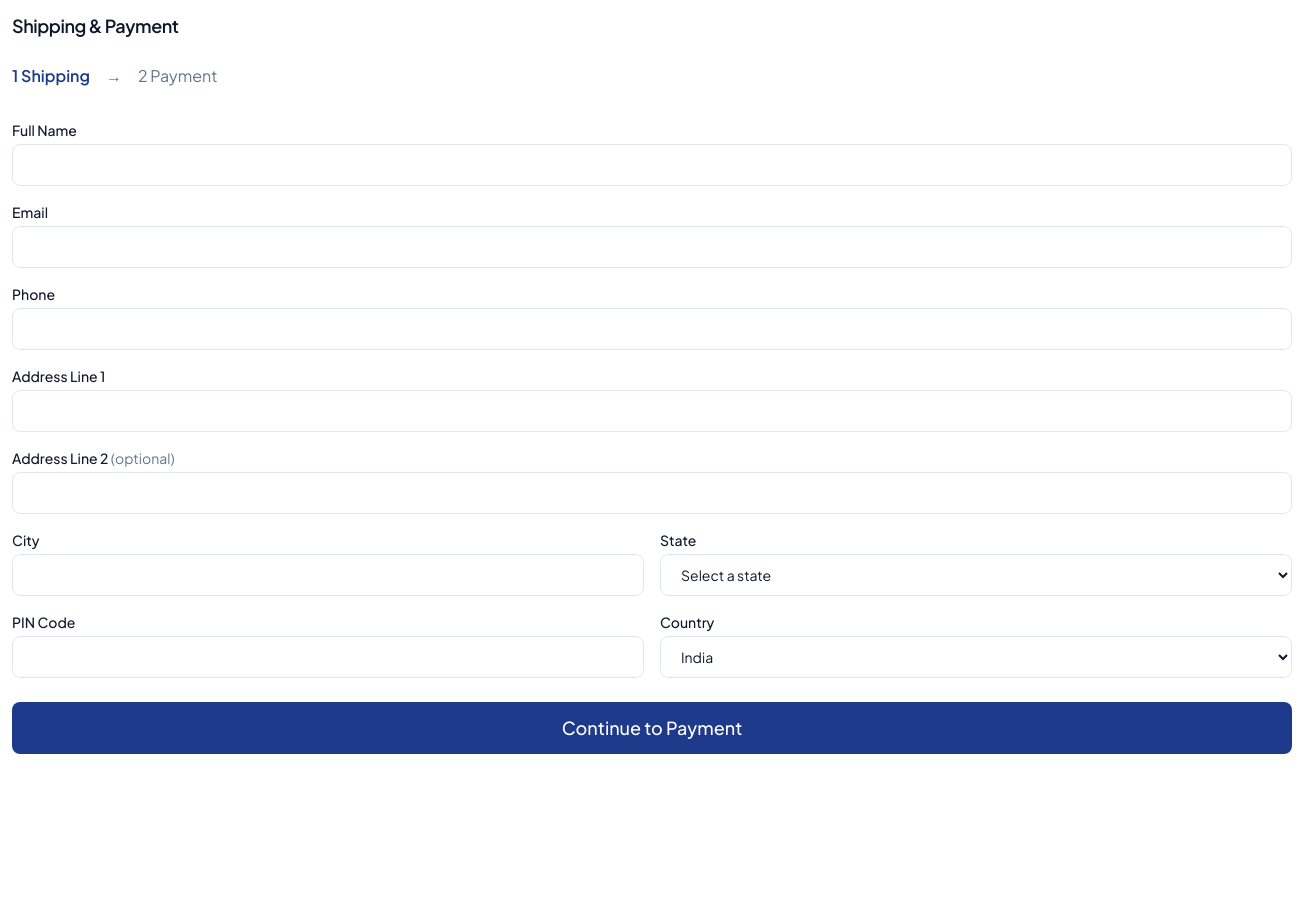
Test: CheckoutForm — Rx confirmation step › shows the confirm-rx step instead of going straight to payment when the order needs one
This screenshot has width=1304, height=912.
Step 1. Type "Test User" into the field labelled "Full Name" → x=652, y=165, box [12,144,1292,186]
Step 2. Type "test@test.com" into the field labelled "Email" → x=652, y=247, box [12,226,1292,268]
Step 3. Type "9876543210" into the field labelled "Phone" → x=652, y=329, box [12,308,1292,350]
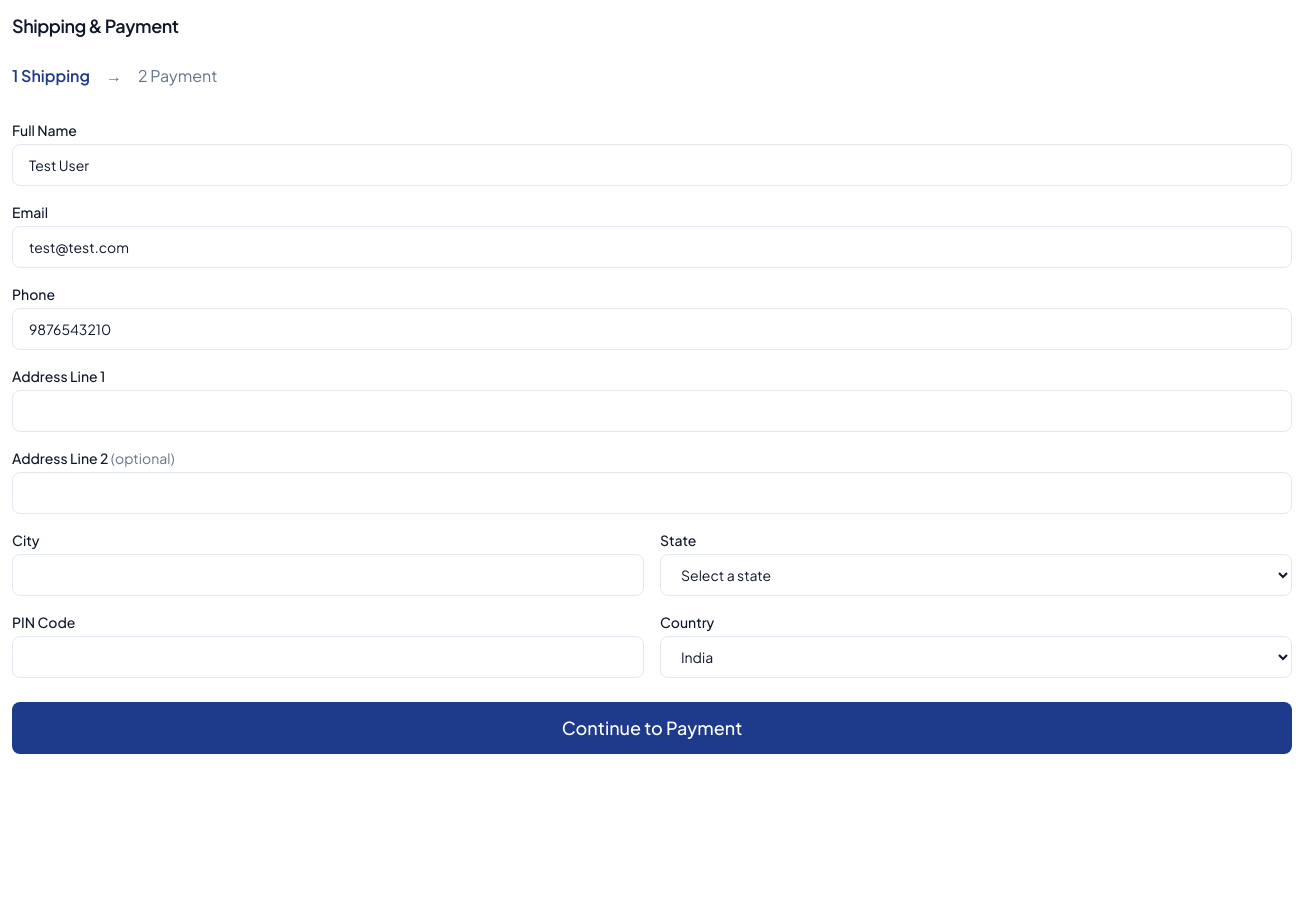
Step 4. Type "22-1-53, Balaji Nagar" into the field labelled "Address Line 1" → x=652, y=411, box [12,390,1292,432]
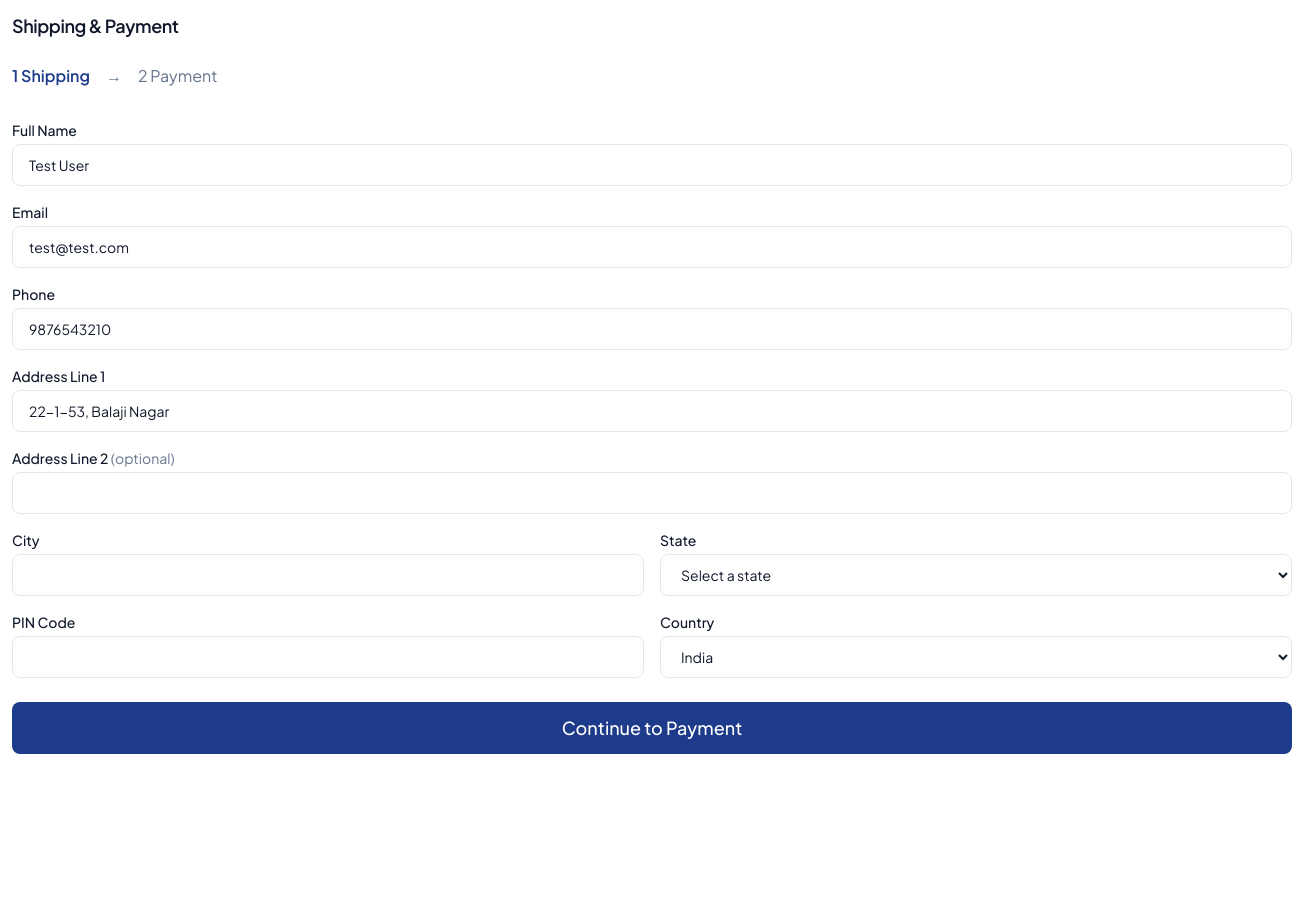
Step 5. Type "Vijayawada" into the field labelled "City" → x=328, y=575, box [12,554,644,596]
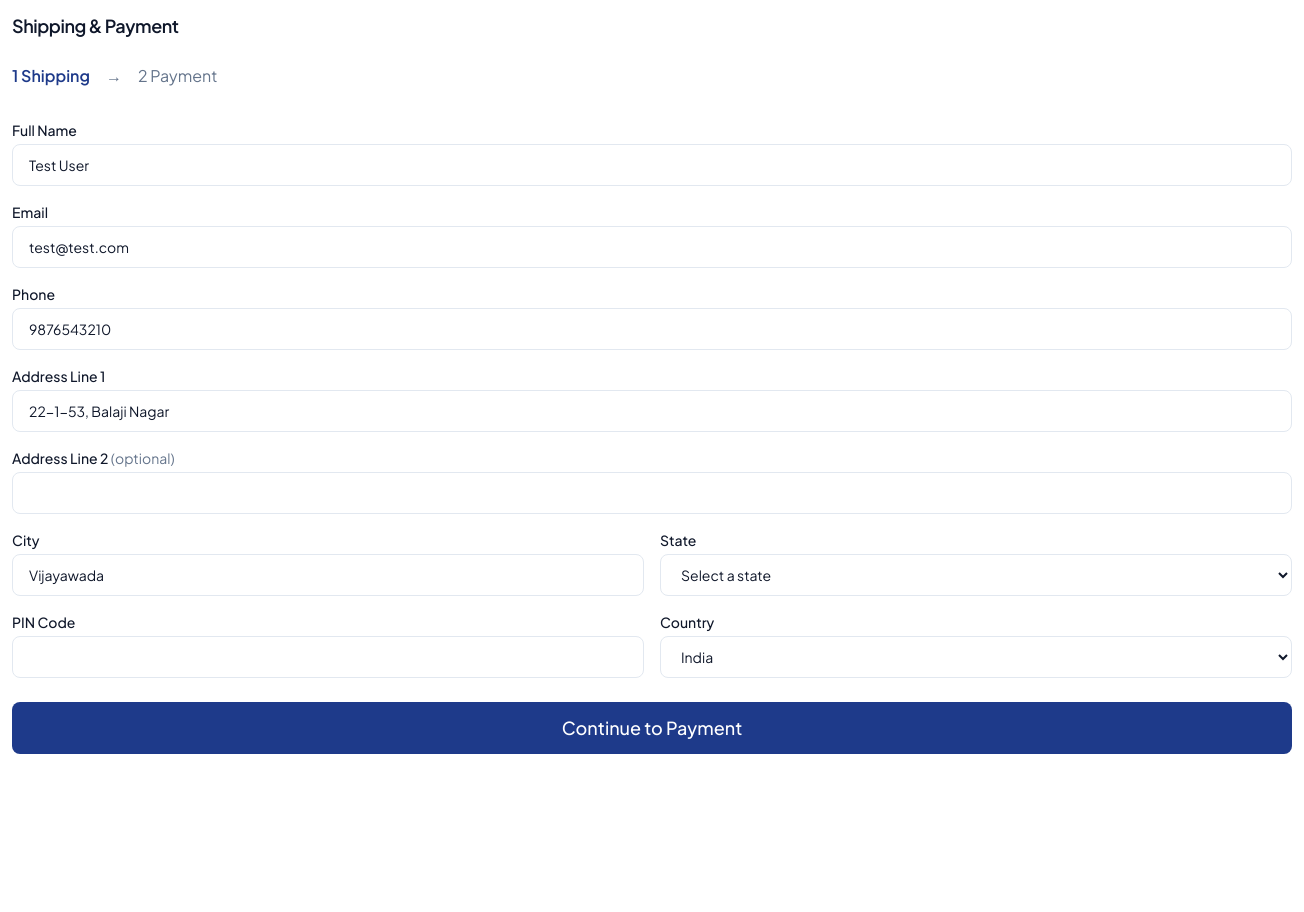
Step 6. Select "Andhra Pradesh" in the dropdown labelled "State" → x=976, y=575, box [660,554,1292,596]
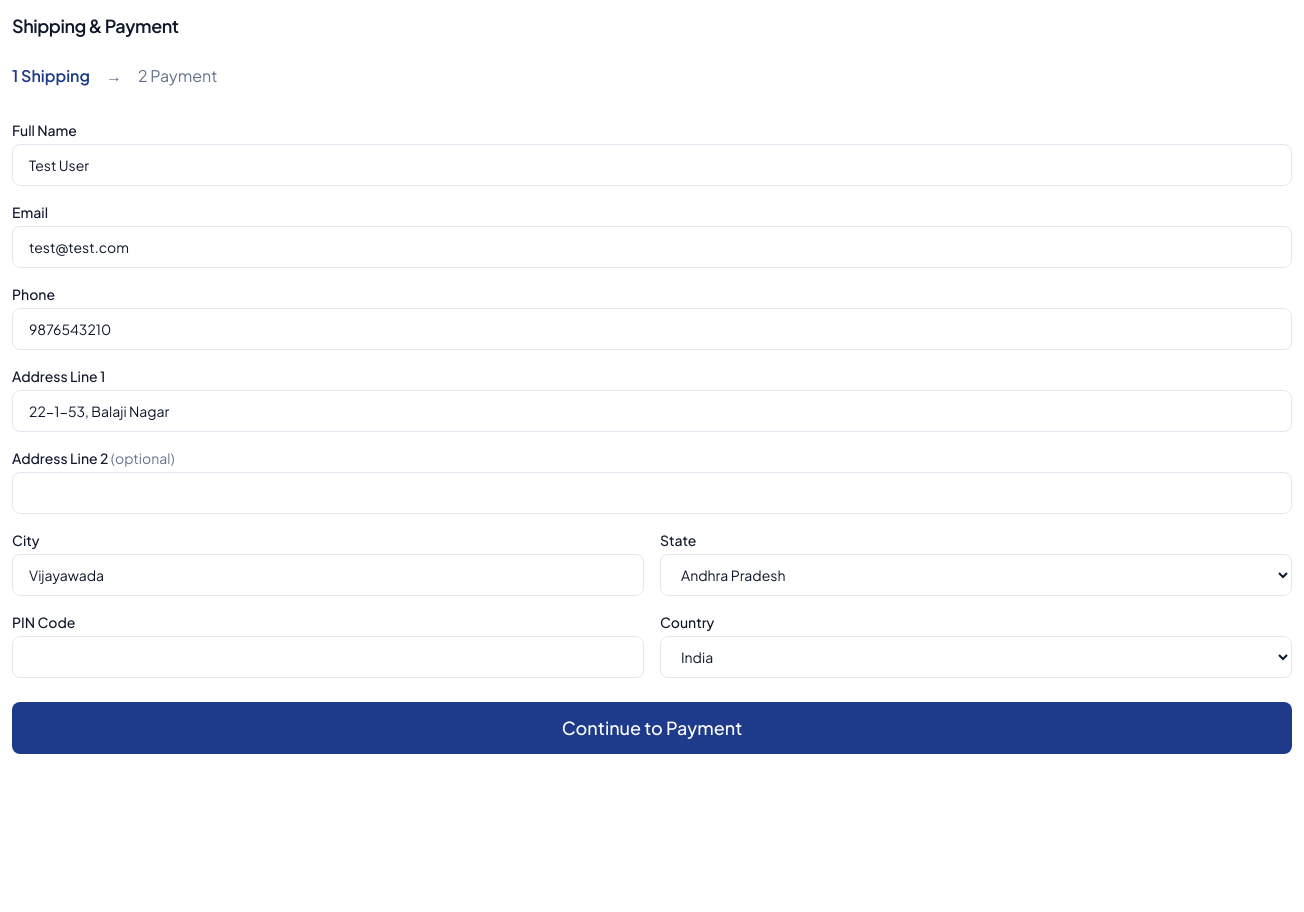
Step 7. Type "520010" into the field labelled "PIN Code" → x=328, y=657, box [12,636,644,678]
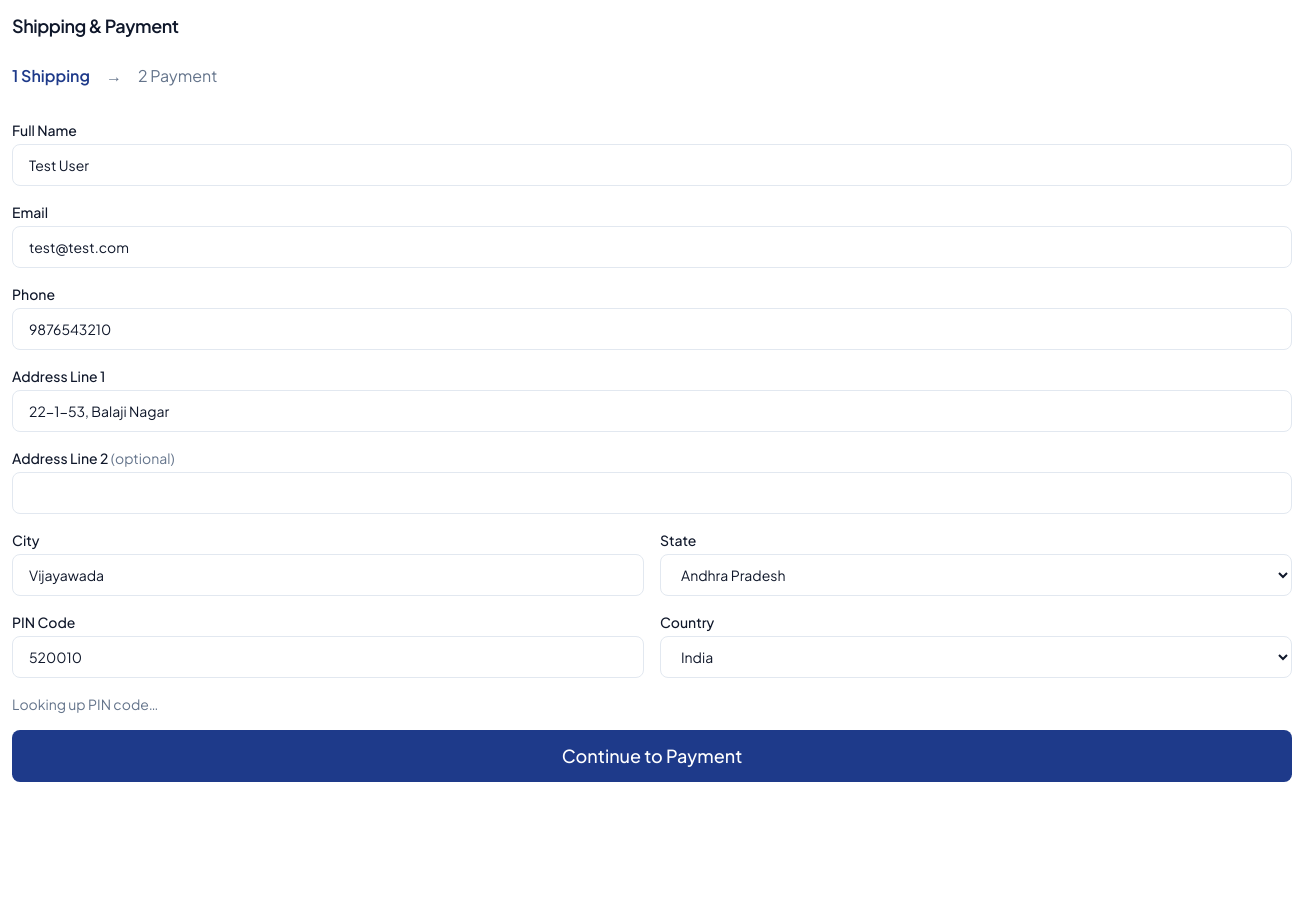
Step 8. Click the button "Continue to Payment" → x=652, y=756, box [12,730,1292,782]
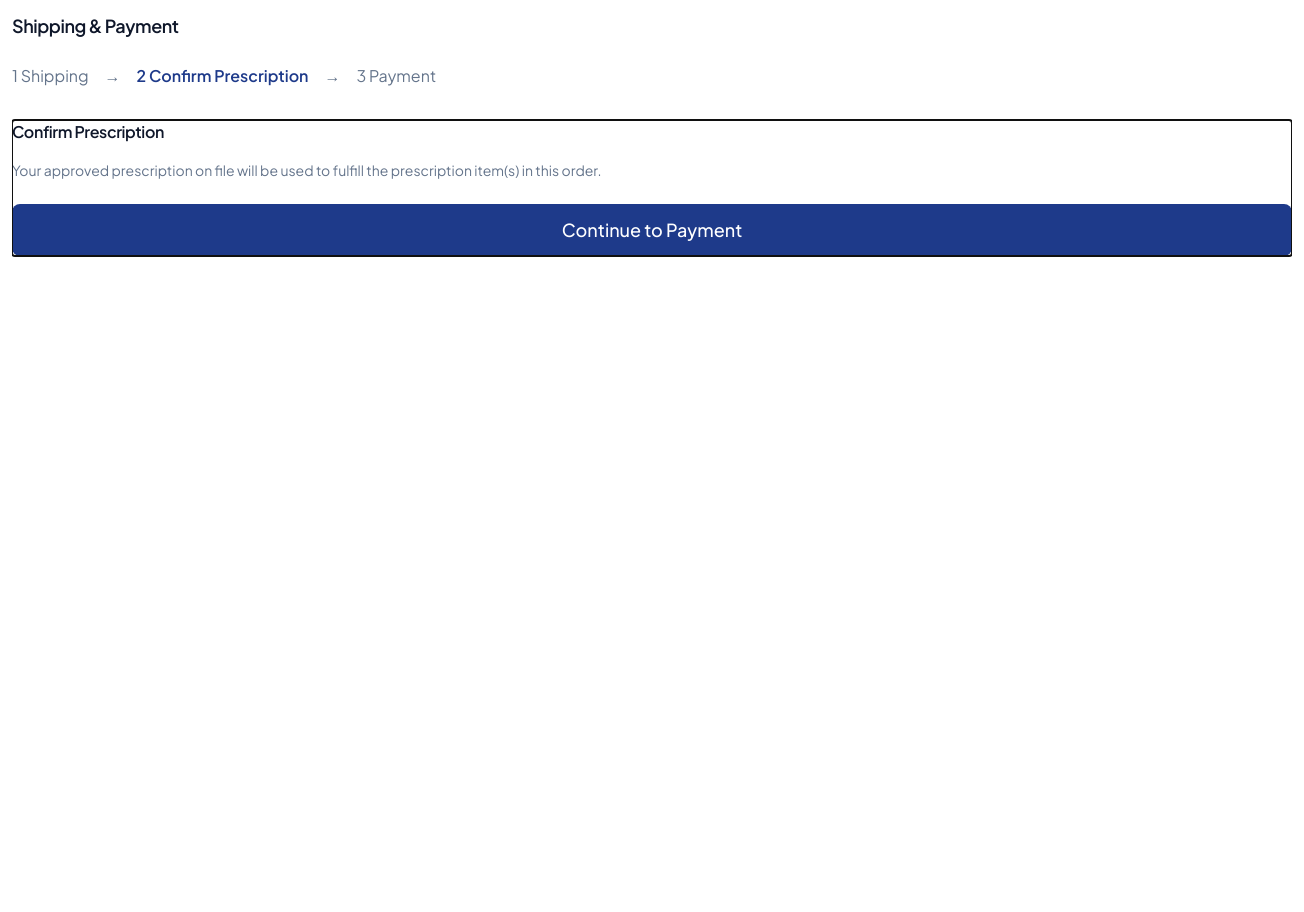
expect the heading "Confirm Prescription" is shown: met, box [12,121,164,142]
